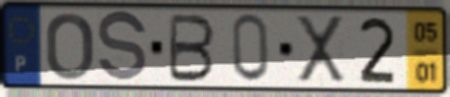0: (229, 11, 272, 86)
2: (358, 16, 398, 86)
B: (165, 12, 218, 85)
O: (43, 11, 96, 83)
S: (95, 8, 150, 86)
X: (292, 14, 348, 86)
